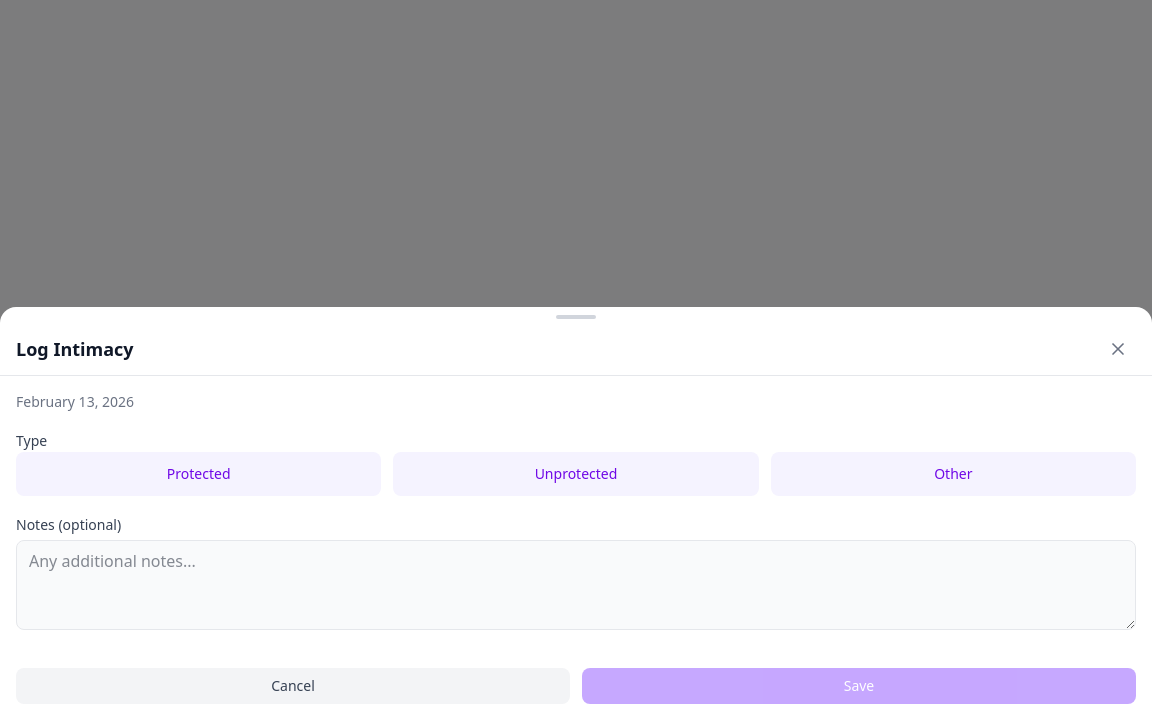
it: IntimacyLogForm › save button state › should enable Save button when a type is selected
# Click on protected option
Click the button "Protected". click: (199, 474)
box: [16, 452, 381, 496]
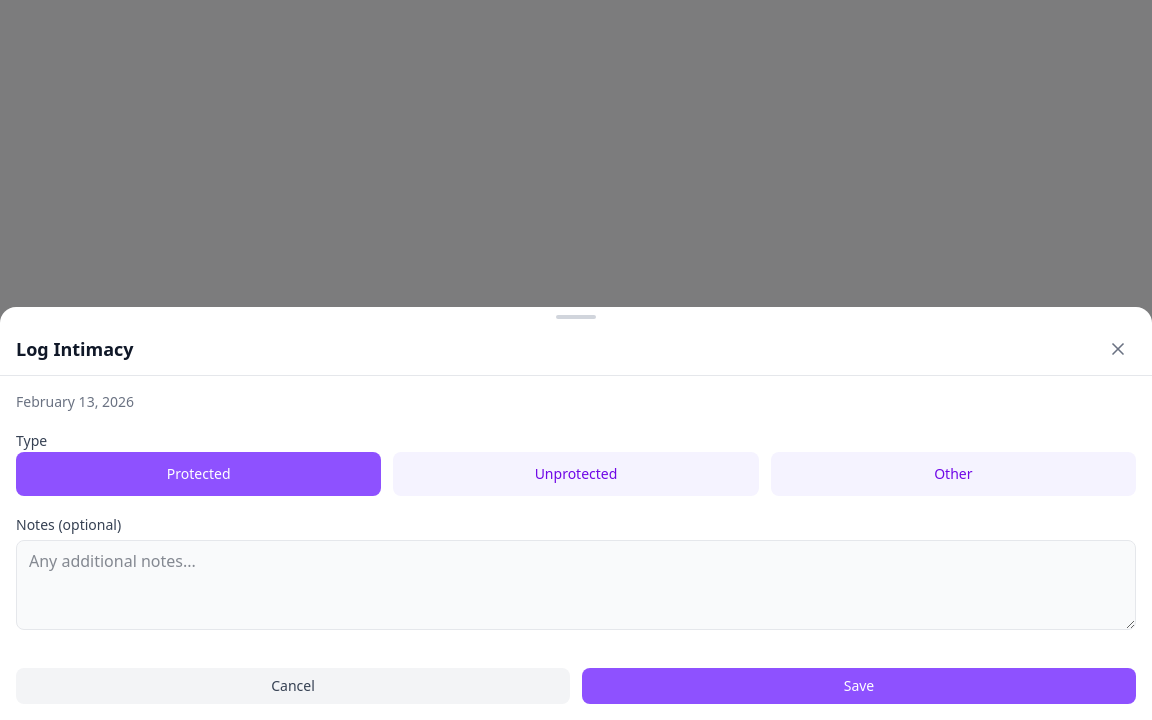
expect the button "Save" is enabled: met, box [582, 668, 1136, 704]
